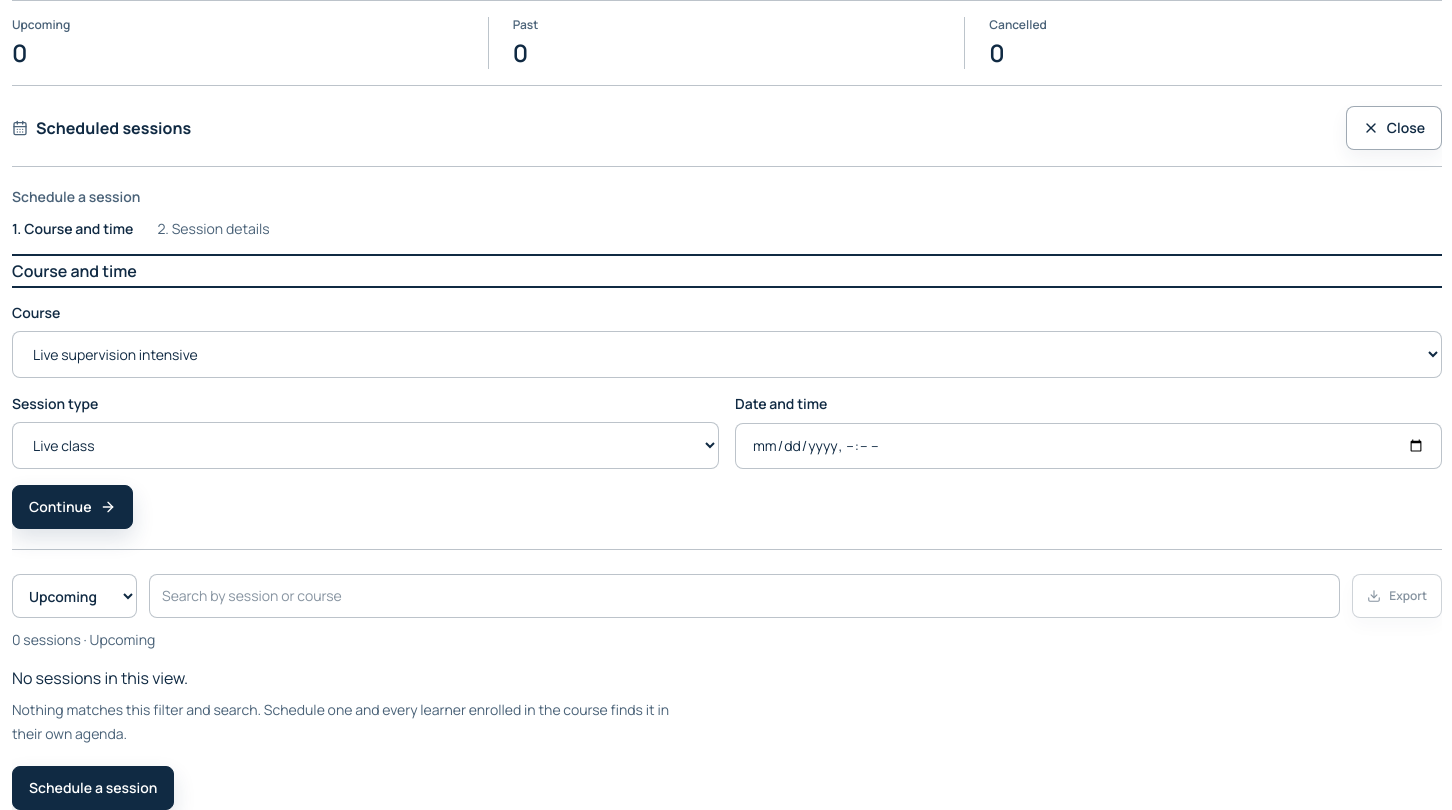
it: TeacherEventStudio › depois de marcar a sessao mostra o proximo passo: preco e publicar, com a aula de boas-vindas
Expected: the link "Set the price and publish" is not shown
Type "2027-03-14T15:30" into the field labelled "Date and time" at coordinates (1088, 446), box [735,422,1442,469]
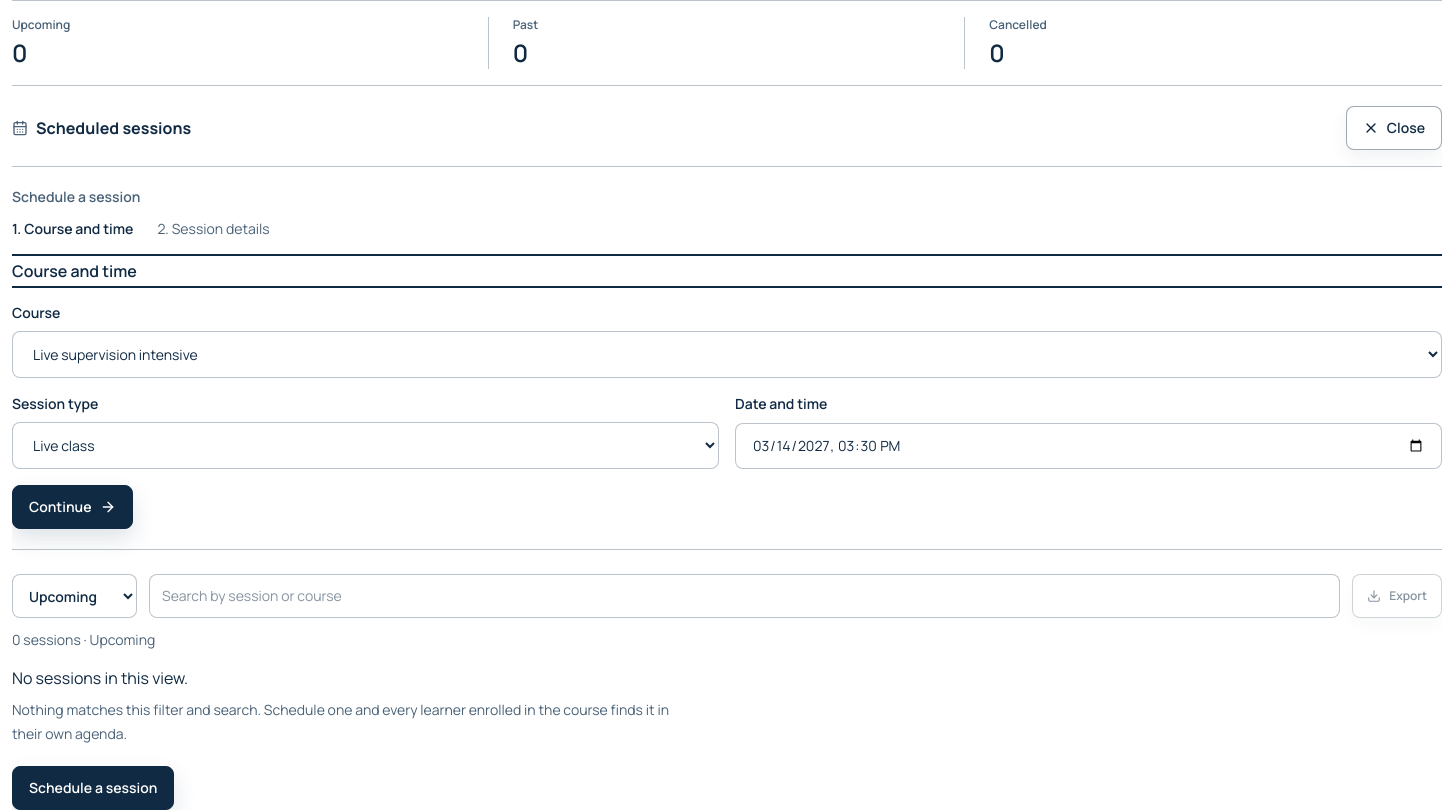
Click the button "Continue" at coordinates (72, 507), box [12,485,133,529]
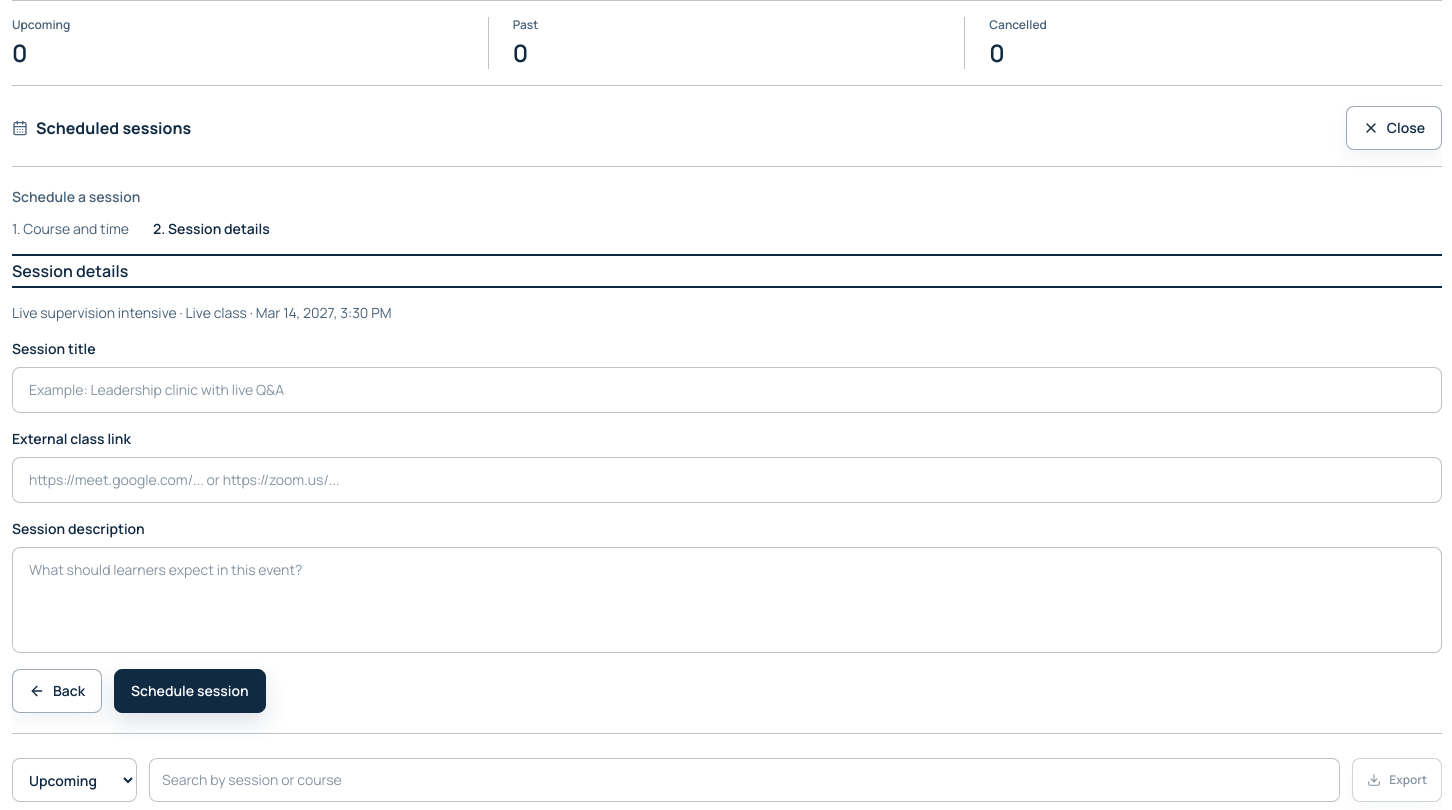
Type "Live workshop" into the field labelled "Session title" at coordinates (727, 390), box [12,367,1442,413]
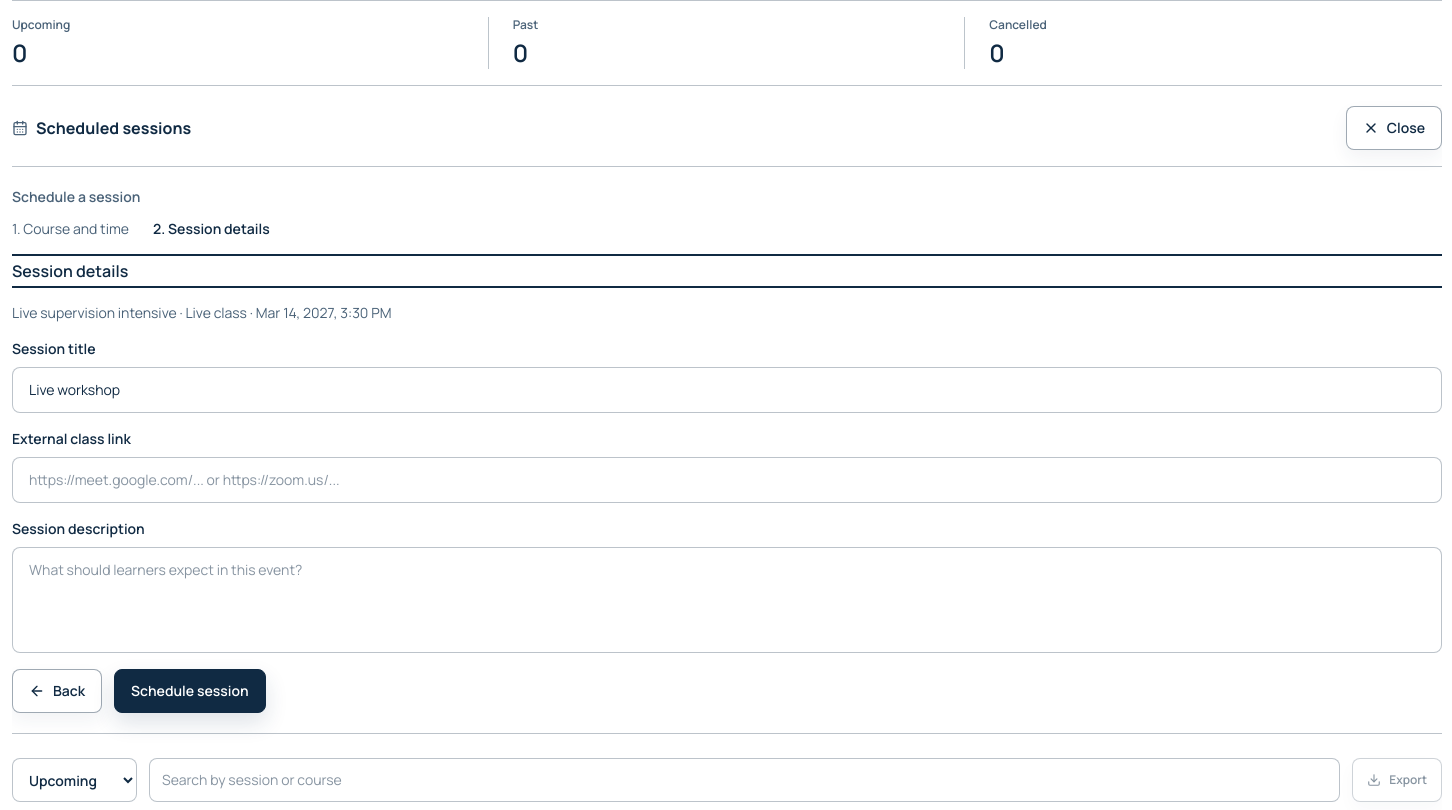
Type "https://meet.example.com/live" into the field labelled "External class link" at coordinates (727, 480), box [12,457,1442,503]
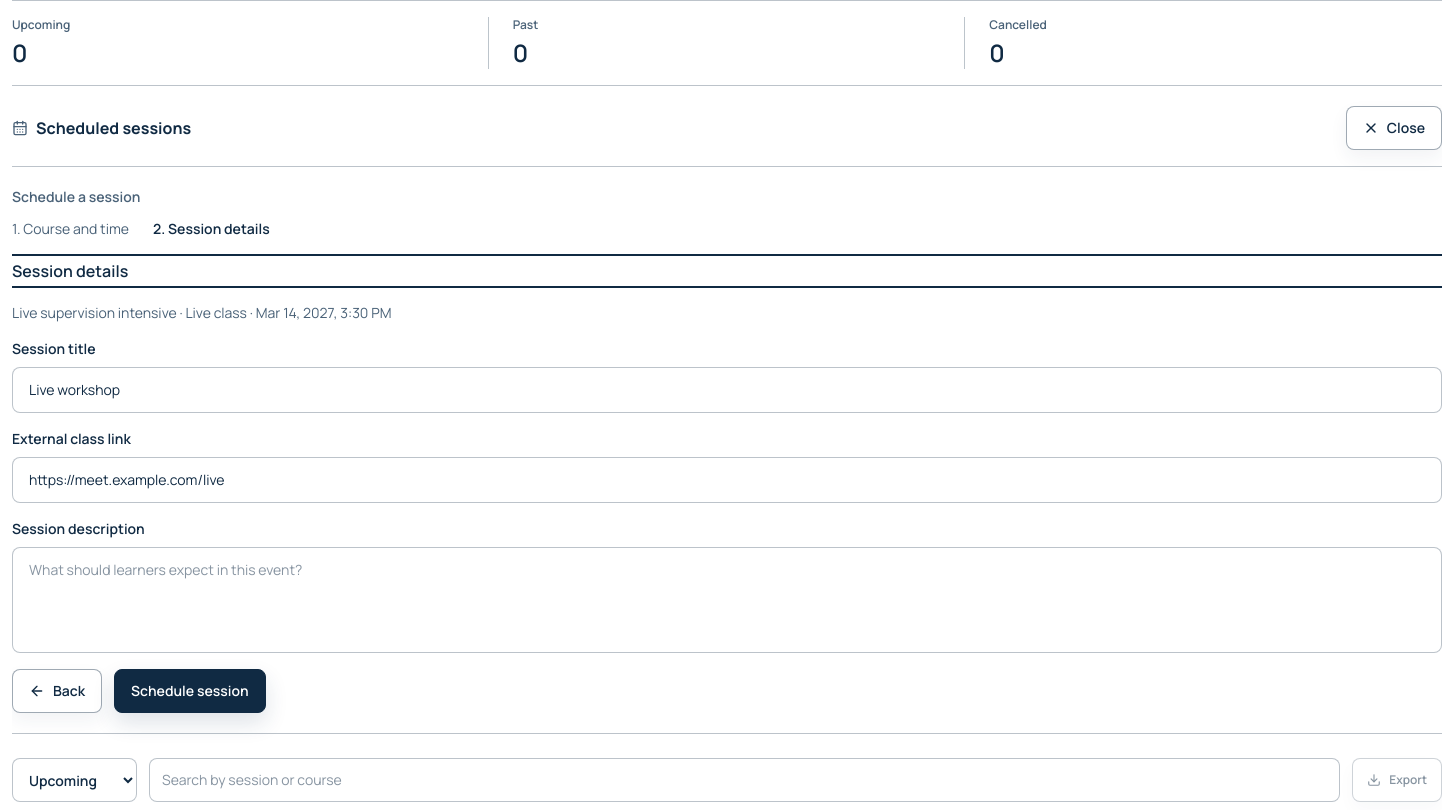
Type "Practical exercises together." into the text box labelled "Session description" at coordinates (727, 600), box [12,547,1442,653]
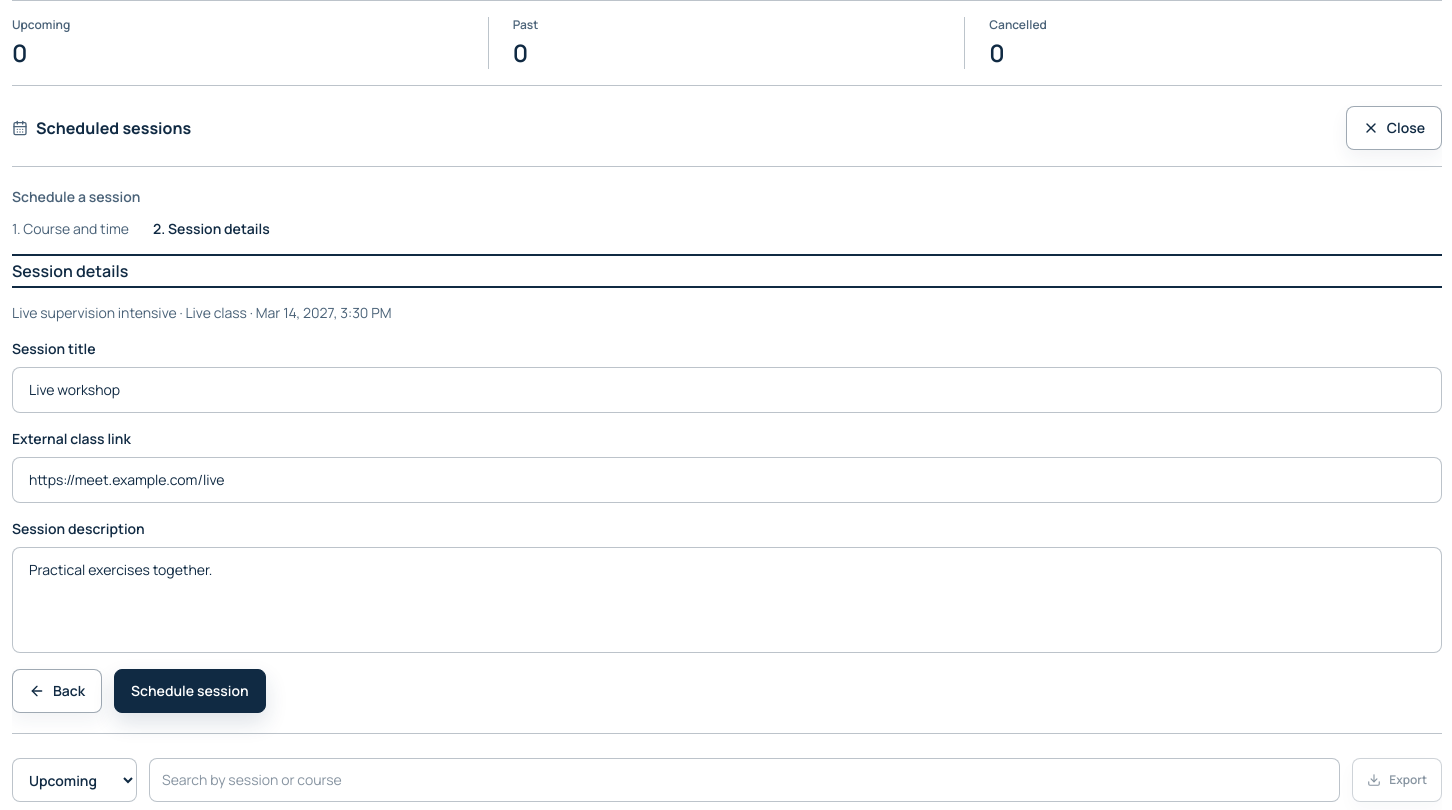
Click the button "Schedule session" at coordinates (190, 691), box [114,669,266,713]
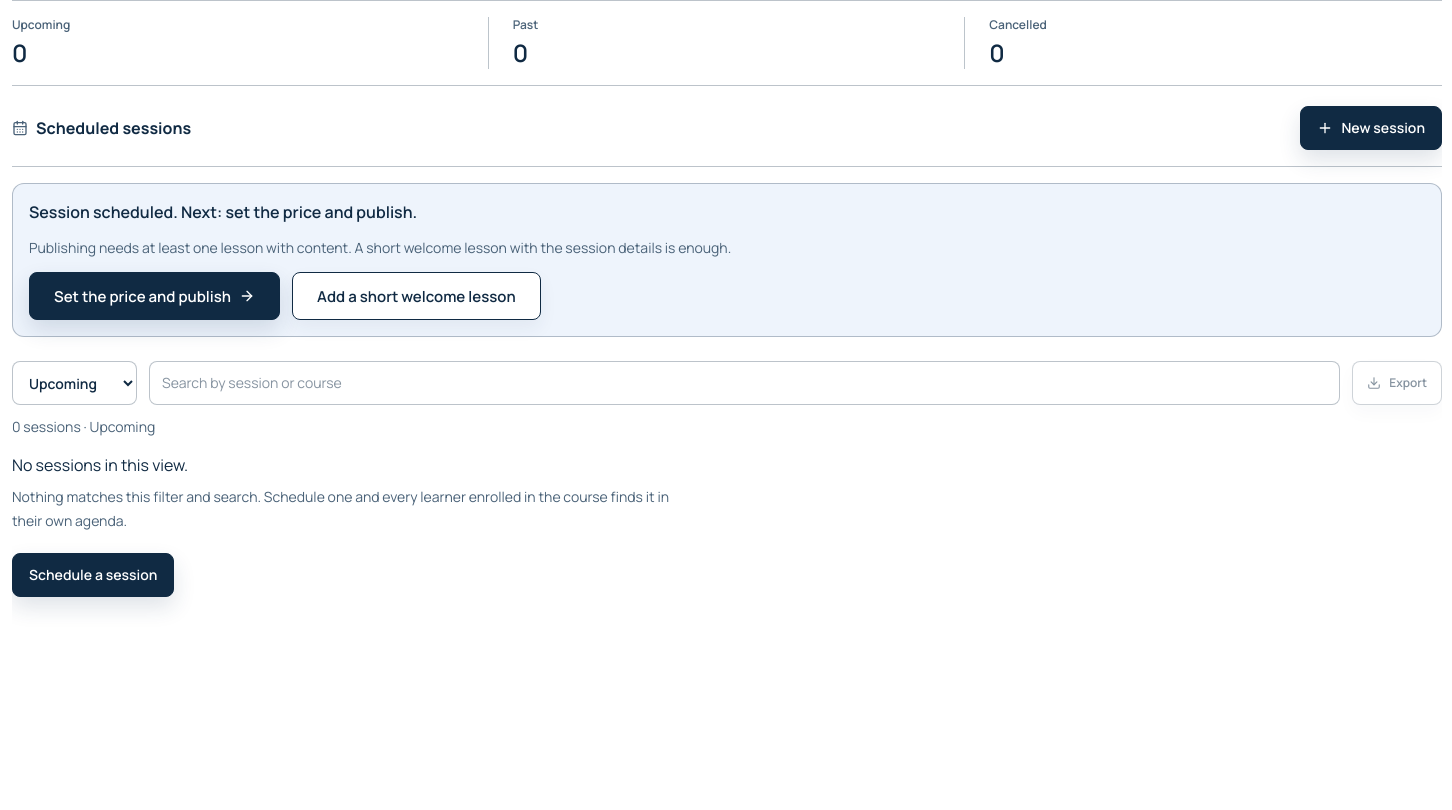
Expected: the icon next to "Add a short welcome lesson" is shown, [239,288,255,304]
Now the text "Publishing needs at least one lesson with content" is shown, box [29,238,731,257]
